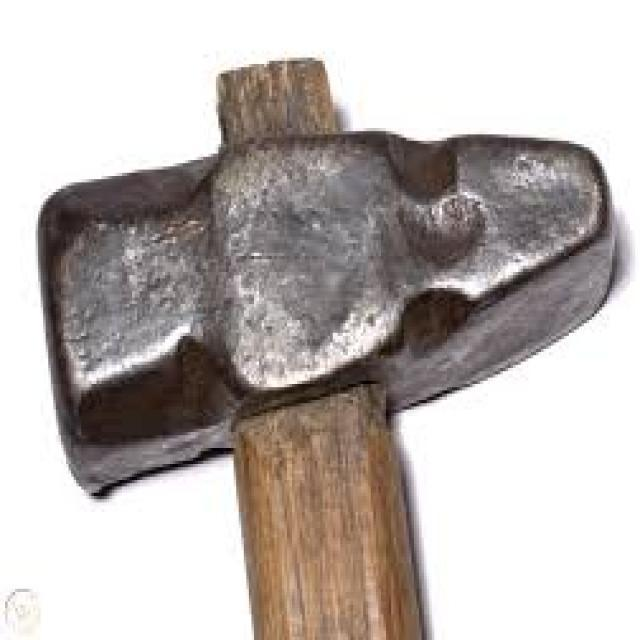hammer: (33, 45, 625, 640)
